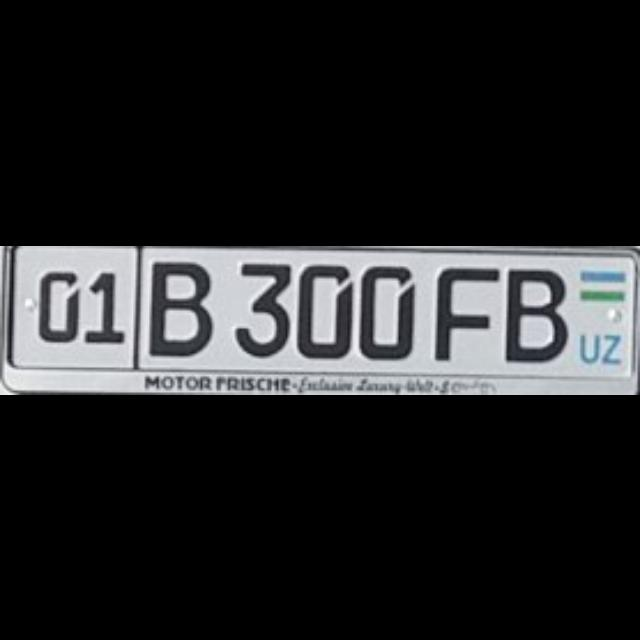0: (294, 261, 348, 353), (358, 263, 409, 355), (36, 268, 74, 339)
1: (82, 268, 121, 339)
3: (232, 259, 286, 351)
B: (147, 256, 207, 354), (504, 268, 566, 358)
F: (433, 263, 495, 355)
